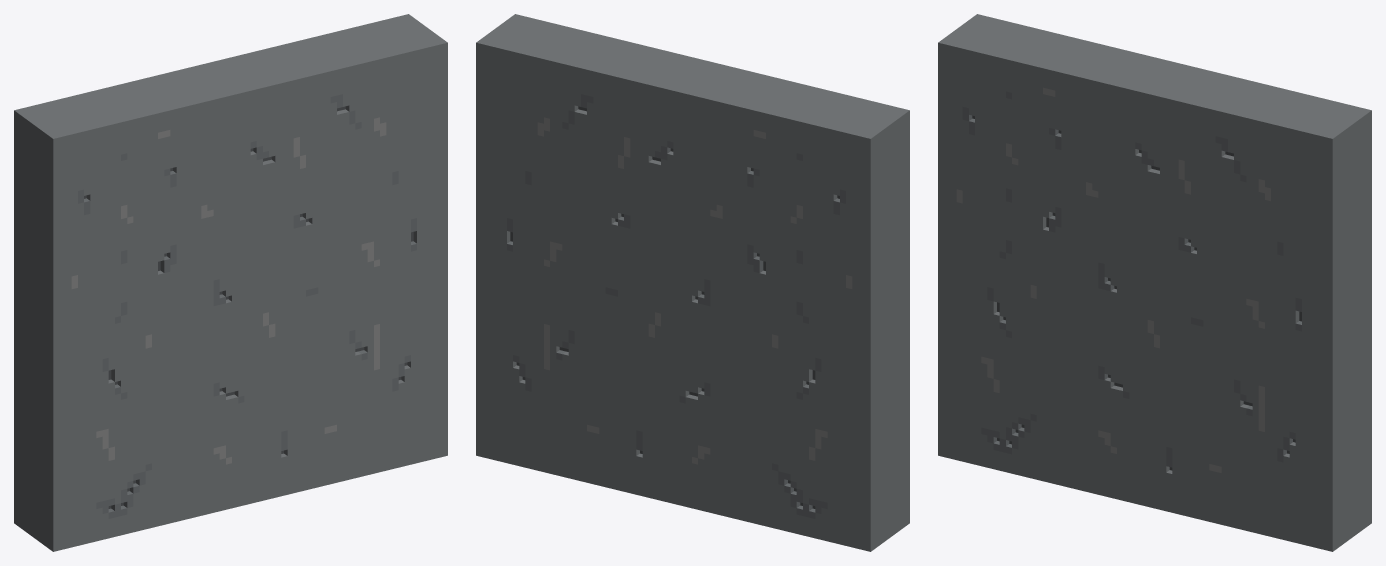
The model's file is Wall_Piece.obj.
The picture shows the model from 3 angles, left to right: view 1: azimuth 30°, elevation 25°; view 2: azimuth 150°, elevation 25°; view 3: azimuth 330°, elevation 25°; orthographic projection.
Bounding box in the file's own units: 6.4 × 6.4 × 1.1.
Materials: 1 (1 with a texture image).
